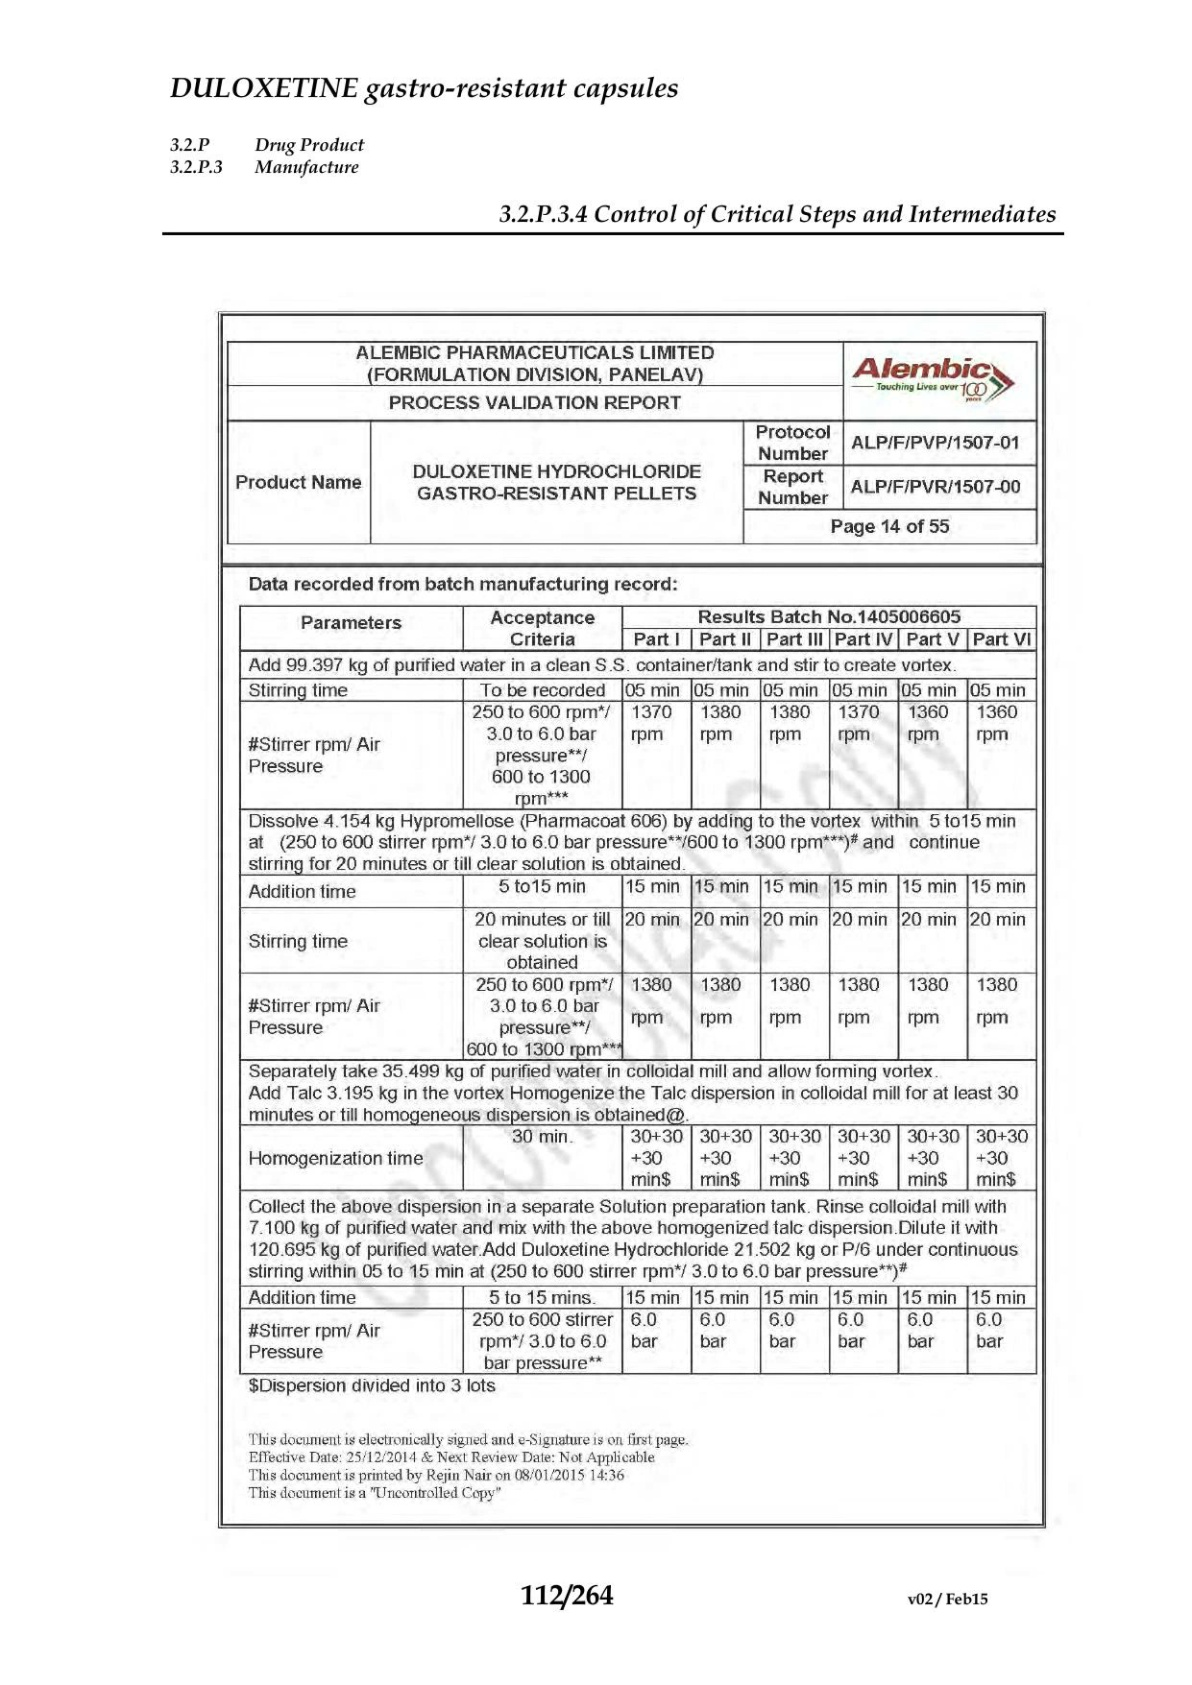merged_cells: (237, 604, 1038, 1377), (226, 341, 1038, 544)
